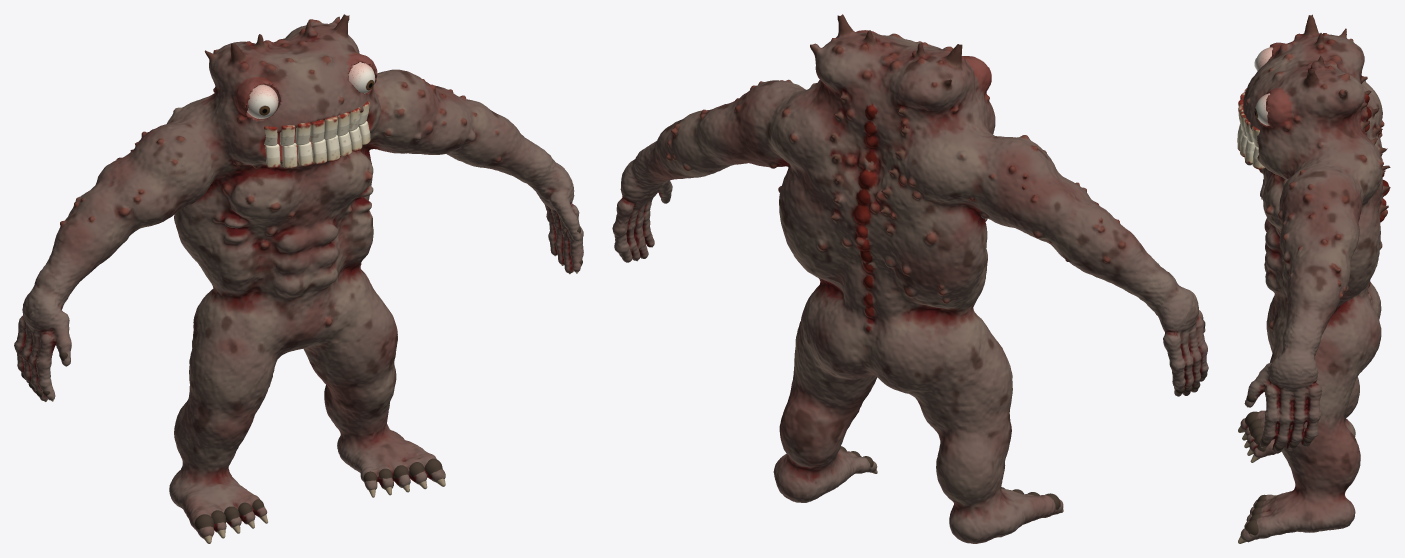
File: monstro.glb
3 renders of one model, left to right at view 1: azimuth 30°, elevation 25°; view 2: azimuth 150°, elevation 25°; view 3: azimuth 270°, elevation 25°, orthographic. The views are drawn at different scales.
Parts seen in each view (by area): view 1: Pele, Dentes, Garras, Olhos; view 2: Pele; view 3: Pele, Garras, Dentes, Olhos.
Part boxes in pixels (box(x1,y1,x2,y2)): Pele: box(14, 14, 583, 538); Dentes: box(264, 101, 370, 168); Garras: box(21, 226, 582, 543); Olhos: box(247, 62, 374, 118); Pele: box(612, 14, 1208, 543); Pele: box(1240, 14, 1390, 542); Garras: box(1238, 198, 1311, 543); Dentes: box(1237, 88, 1264, 169); Olhos: box(1254, 47, 1272, 125).
Size of the model in its own units: 3.23 by 2.6 by 0.8071.
